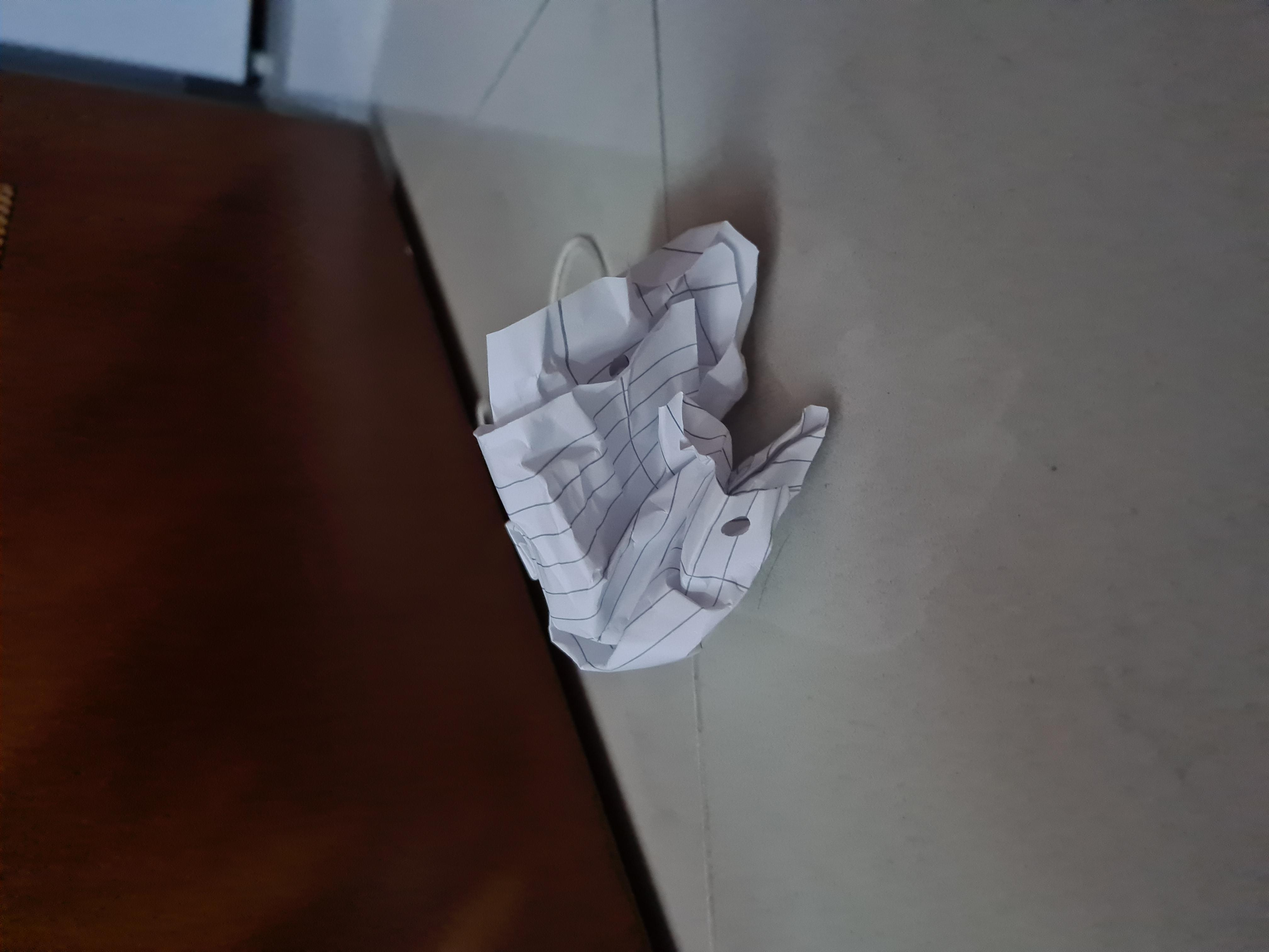paper: (366, 352, 975, 624)
